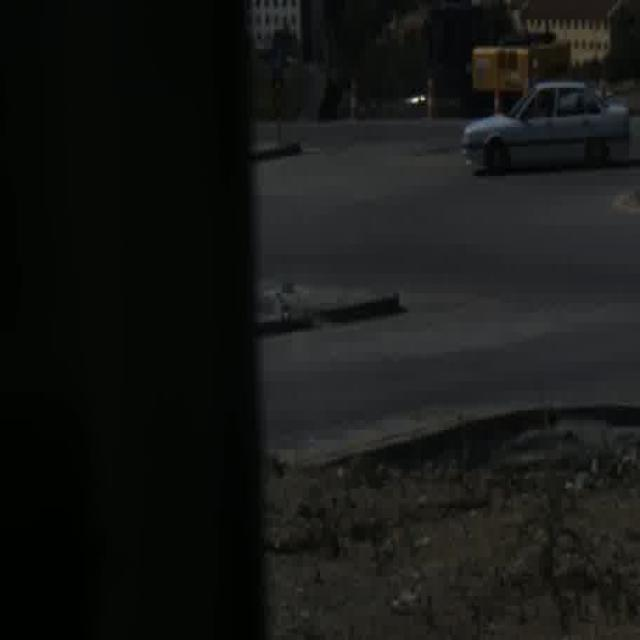Car: (462, 75, 629, 179)
